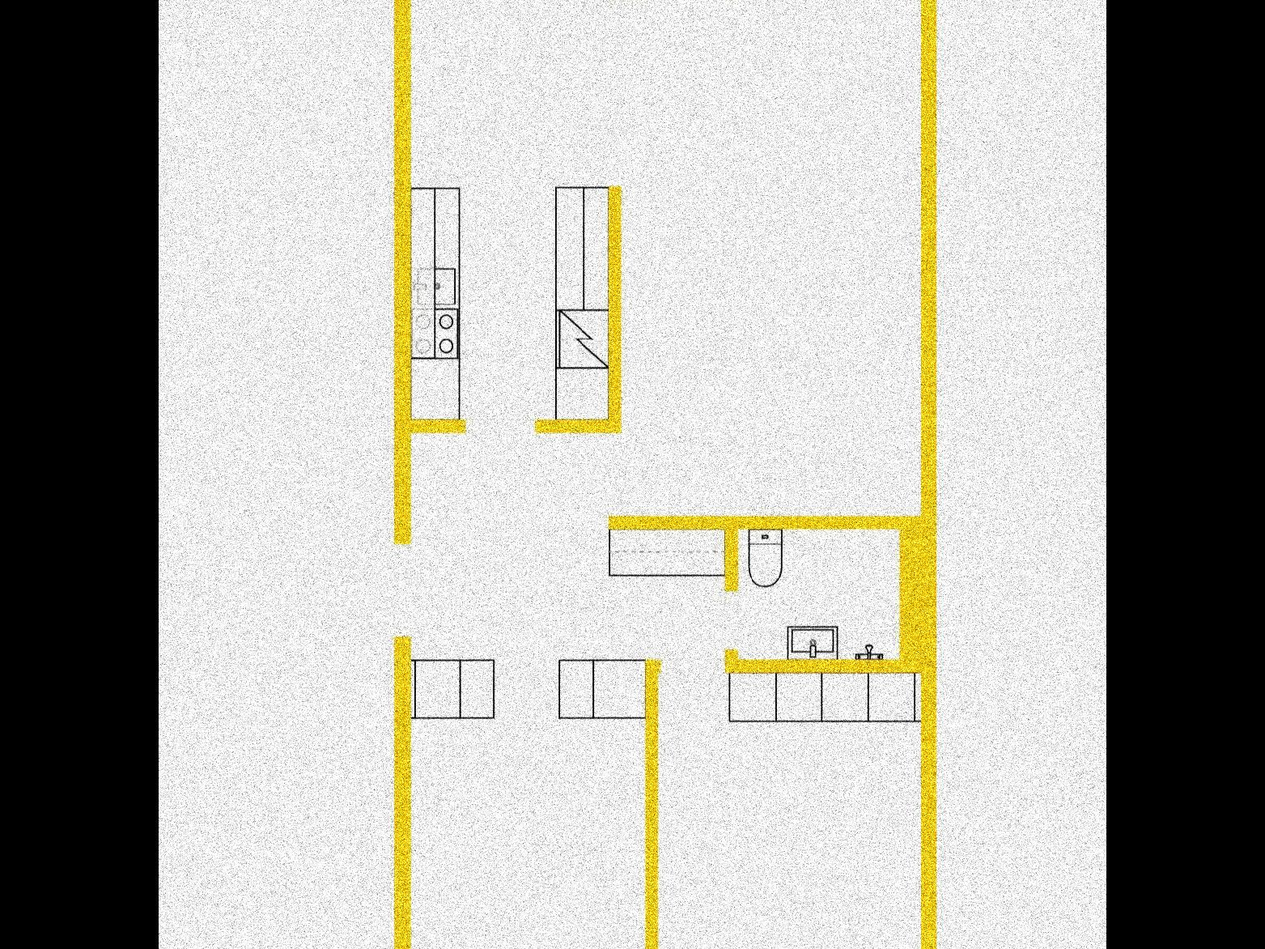door: (659, 656, 728, 677), (395, 541, 410, 637), (463, 420, 535, 434), (727, 594, 739, 652)
zone: (411, 0, 917, 949), (660, 676, 917, 949), (737, 525, 907, 656)
